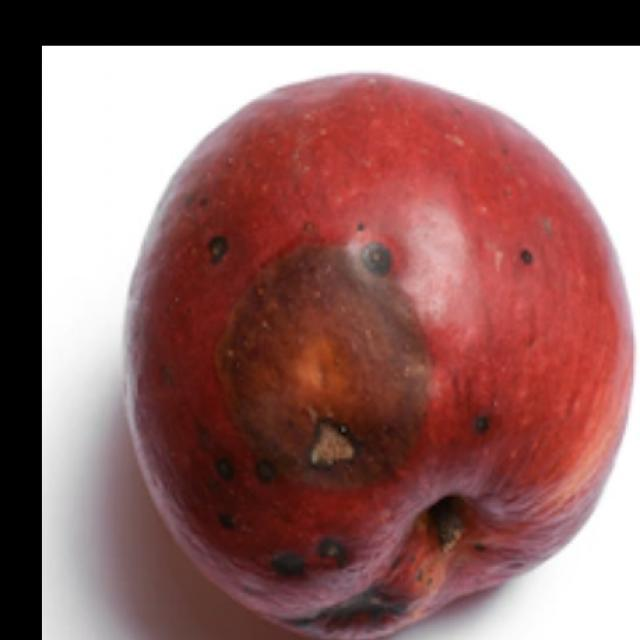Rotten: (148, 85, 618, 590)
